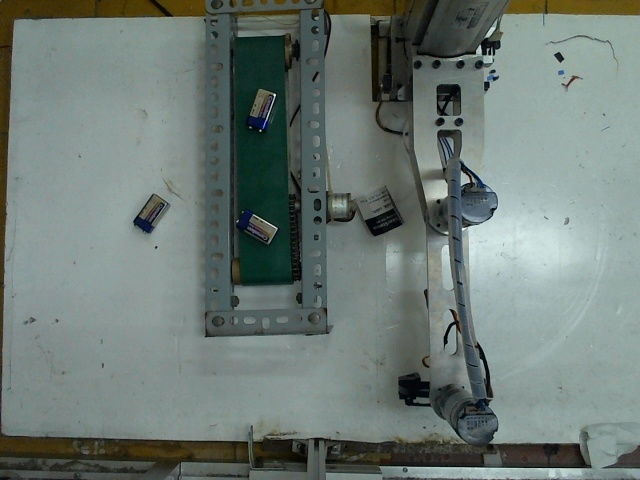battery: (235, 201, 281, 245), (242, 87, 277, 128), (135, 192, 170, 229)
